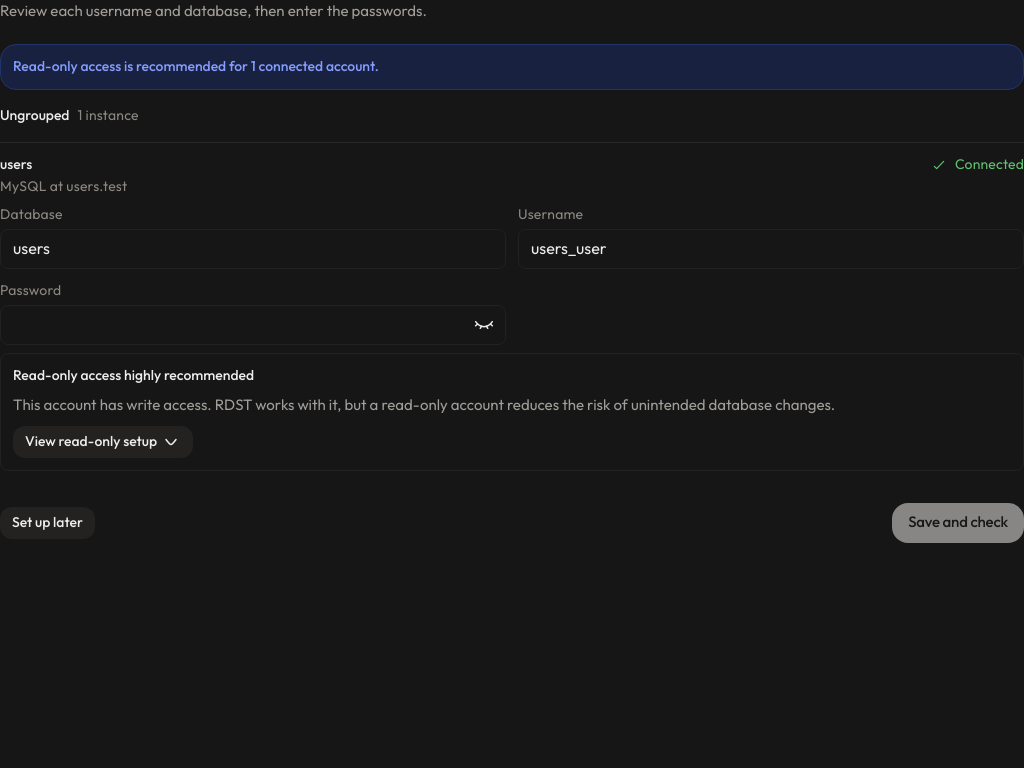
Test: CredentialsStep › renders copy-pasteable MySQL read-only and diagnostics grants
Click the button "View read-only setup" at (103, 442), box [13,426,193,458]
(page scrolled)
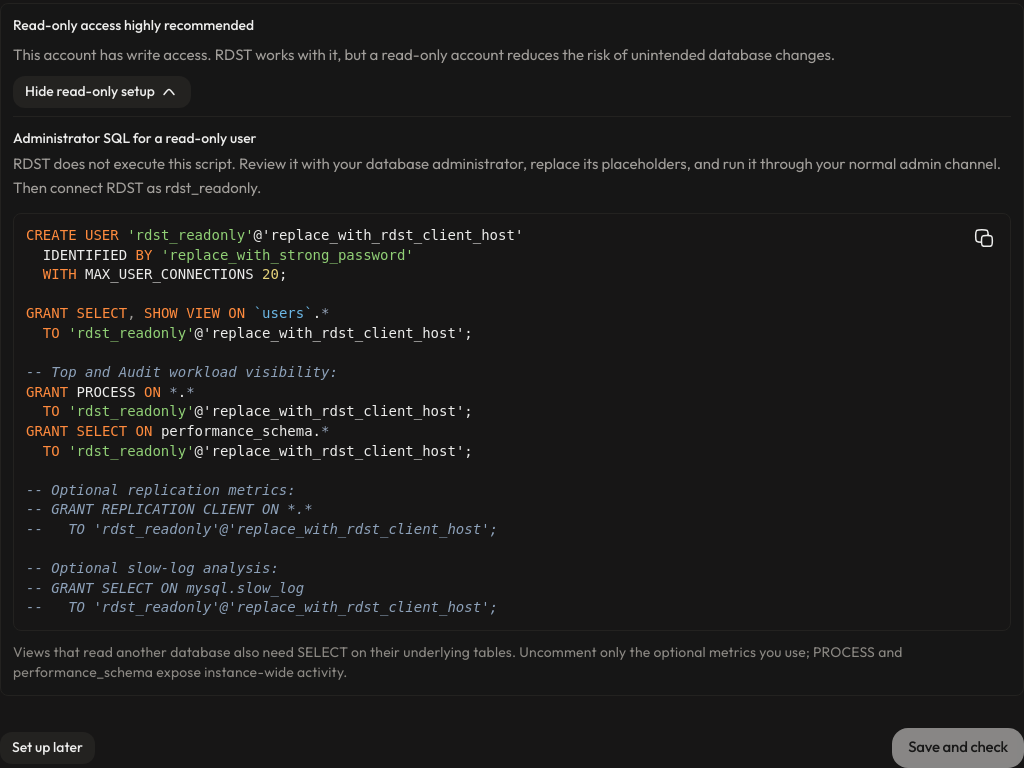
Now the field with class "cm-content" shows "CREATE USER 'rdst_readonly'@'replace_with_rdst_client_host'", box [26,227,523,615]
Now the field with class "cm-content" shows "MAX_USER_CONNECTIONS 20", box [26,227,523,615]
Now the field with class "cm-content" shows "GRANT SELECT, SHOW VIEW ON `users`.*", box [26,227,523,615]
